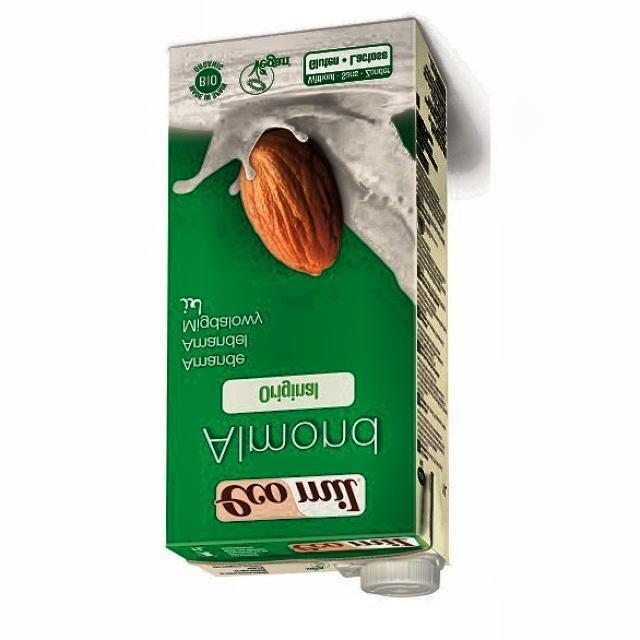cardboard: (165, 20, 450, 588)
